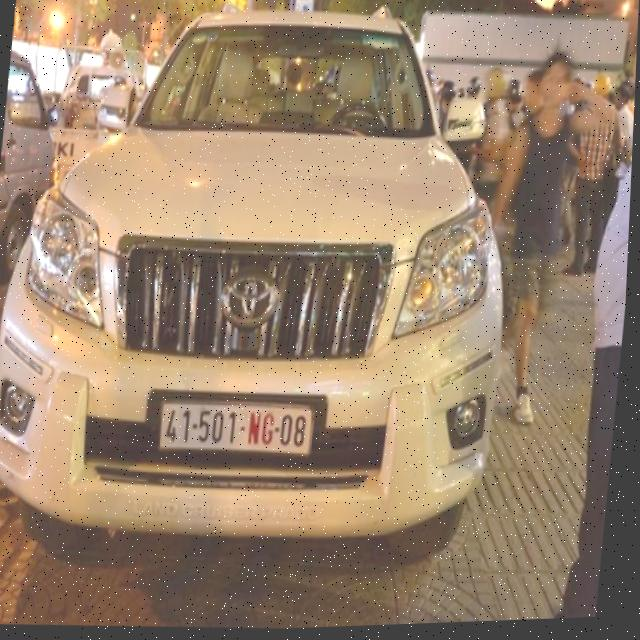car: (0, 0, 534, 583)
plate: (153, 391, 319, 468)
